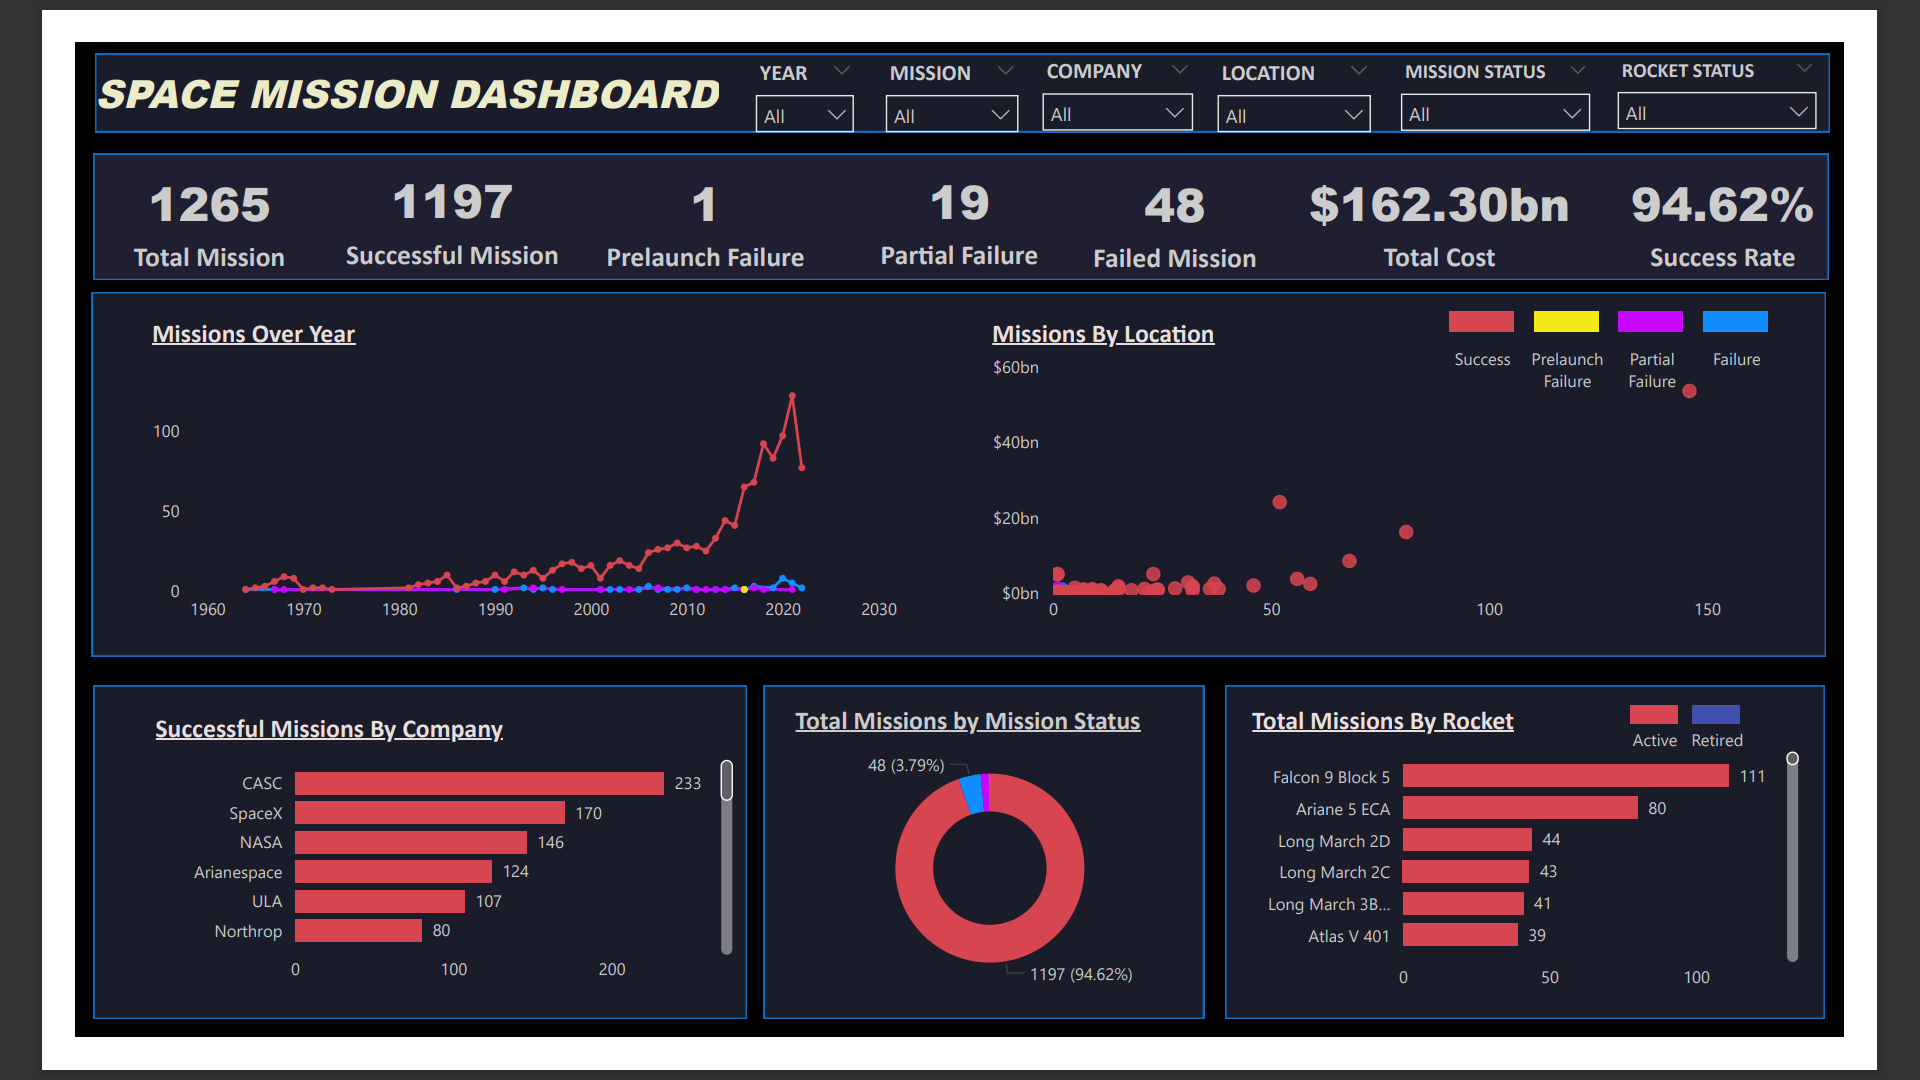

This screenshot's page, from the dashboard's own definition file:
{"tool":"powerbi","page":{"name":"DASHBOARD","canvas":[1280,720],"ordinal":0},"visuals":[{"type":"shape","box":[12.9,81.4,1255.7,91.4],"z":0},{"type":"shape","box":[12.5,181.2,1255,263.8],"z":1000},{"type":"shape","box":[12.9,465.7,472.9,241.4],"z":2000},{"type":"shape","box":[498.8,466.2,318.8,241.2],"z":3000},{"type":"shape","box":[832.5,466.2,433.8,241.2],"z":4000},{"type":"lineChart","title":"Missions Over Year","fields":{"Y":["All measures.total_misions"],"Category":["Date Table.year"],"Series":["space_missions.MissionStatus"]},"box":[51.2,198.8,548.8,230],"z":5000},{"type":"scatterChart","title":"Missions By Location","fields":{"X":["All measures.total_misions"],"Y":["All measures.Total_Price"],"Category":["space_missions.Location"],"Series":["space_missions.MissionStatus"]},"box":[658.8,198.8,568.8,230],"z":6000},{"type":"barChart","title":"Successful Missions By Company","fields":{"Y":["All measures.Successful_mission"],"Category":["space_missions.Company"]},"box":[52.5,485,427.5,205],"z":7000},{"type":"clusteredBarChart","title":"Total Missions By Rocket","fields":{"Y":["All measures.total_misions"],"Category":["space_missions.Rocket"]},"box":[847.5,478.8,405,216.2],"z":8000},{"type":"donutChart","title":"Total Missions by Mission Status","fields":{"Y":["All measures.total_misions"],"Category":["space_missions.MissionStatus"]},"box":[516.2,478.8,291.2,216.2],"z":9000},{"type":"columnChart","fields":{"Category":["space_missions.MissionStatus"],"Y":["All measures.Legend"]},"box":[957.6,180.9,300.3,80.8],"z":10000},{"type":"columnChart","fields":{"Y":["All measures.Legend"],"Category":["space_missions.RocketStatus"]},"box":[1080,466.2,172.5,57.5],"z":11000},{"type":"card","fields":{"Values":["All measures.total_misions"]},"box":[34.3,82.9,127.1,91.4],"z":12000},{"type":"card","fields":{"Values":["All measures.Successful_mission"]},"box":[184.3,88.6,177.1,78.6],"z":13000},{"type":"card","fields":{"Values":["All measures.Total_Price"]},"box":[881.4,85.7,211.4,87.1],"z":14000},{"type":"card","fields":{"Values":["All measures.Prelaunch Failure"]},"box":[377.1,82.9,157.1,91.4],"z":15000},{"type":"card","fields":{"Values":["All measures.Partial_Failure"]},"box":[574.3,85.7,131.4,84.3],"z":16000},{"type":"card","fields":{"Values":["All measures.Failed_Mission"]},"box":[724.3,90,144.3,78.6],"z":17000},{"type":"card","fields":{"Values":["All measures.Success_rate"]},"box":[1118.6,85.7,148.6,87.1],"z":18000},{"type":"shape","title":"SPACE MISSION DASHBOARD","box":[14.5,8.4,1255.5,56.7],"z":19000},{"type":"slicer","fields":{"Values":["Date Table.year"]},"box":[482.9,7.1,91.4,62.9],"z":20000},{"type":"slicer","fields":{"Values":["space_missions.Location"]},"box":[817.1,7.1,131.4,61.4],"z":21000},{"type":"slicer","fields":{"Values":["space_missions.Mission"]},"box":[577.1,7.1,115.7,62.9],"z":22000},{"type":"slicer","fields":{"Values":["space_missions.Company"]},"box":[690,5.7,128.6,62.9],"z":23000},{"type":"slicer","fields":{"Values":["space_missions.MissionStatus"]},"box":[949.1,7.2,156.8,63.9],"z":24000},{"type":"slicer","fields":{"Values":["space_missions.RocketStatus"]},"box":[1105.9,6,164,62.7],"z":25000}]}

Visuals, with their boxes in screenshot pixels (x1, y1, x2, y2), scaled from the page's 1280x720 canvas onto the 1920x1080 screenshot:
shape: x1=19, y1=122, x2=1903, y2=259
shape: x1=19, y1=272, x2=1901, y2=668
shape: x1=19, y1=699, x2=729, y2=1061
shape: x1=748, y1=699, x2=1226, y2=1061
shape: x1=1249, y1=699, x2=1899, y2=1061
"Missions Over Year" lineChart: x1=77, y1=298, x2=900, y2=643
"Missions By Location" scatterChart: x1=988, y1=298, x2=1841, y2=643
"Successful Missions By Company" barChart: x1=79, y1=728, x2=720, y2=1035
"Total Missions By Rocket" clusteredBarChart: x1=1271, y1=718, x2=1879, y2=1042
"Total Missions by Mission Status" donutChart: x1=774, y1=718, x2=1211, y2=1042
columnChart - space_missions.MissionStatus x All measures.Legend: x1=1436, y1=271, x2=1887, y2=393
columnChart - All measures.Legend x space_missions.RocketStatus: x1=1620, y1=699, x2=1879, y2=786
card - All measures.total_misions: x1=51, y1=124, x2=242, y2=261
card - All measures.Successful_mission: x1=276, y1=133, x2=542, y2=251
card - All measures.Total_Price: x1=1322, y1=129, x2=1639, y2=259
card - All measures.Prelaunch Failure: x1=566, y1=124, x2=801, y2=261
card - All measures.Partial_Failure: x1=861, y1=129, x2=1059, y2=255
card - All measures.Failed_Mission: x1=1086, y1=135, x2=1303, y2=253
card - All measures.Success_rate: x1=1678, y1=129, x2=1901, y2=259
"SPACE MISSION DASHBOARD" shape: x1=22, y1=13, x2=1905, y2=98
slicer - Date Table.year: x1=724, y1=11, x2=861, y2=105
slicer - space_missions.Location: x1=1226, y1=11, x2=1423, y2=103
slicer - space_missions.Mission: x1=866, y1=11, x2=1039, y2=105
slicer - space_missions.Company: x1=1035, y1=9, x2=1228, y2=103
slicer - space_missions.MissionStatus: x1=1424, y1=11, x2=1659, y2=107
slicer - space_missions.RocketStatus: x1=1659, y1=9, x2=1905, y2=103
